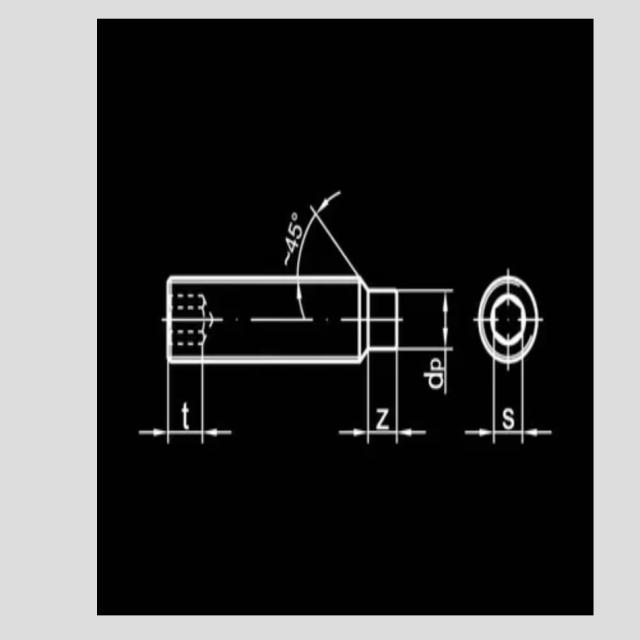marking_line: (398, 290, 454, 441), (337, 366, 428, 443), (136, 370, 236, 439), (461, 364, 556, 435), (297, 189, 359, 274), (463, 360, 500, 440), (198, 365, 235, 443), (517, 368, 554, 445), (136, 367, 174, 440), (248, 286, 314, 322)
numeric: (288, 222, 302, 241), (286, 237, 299, 255)
